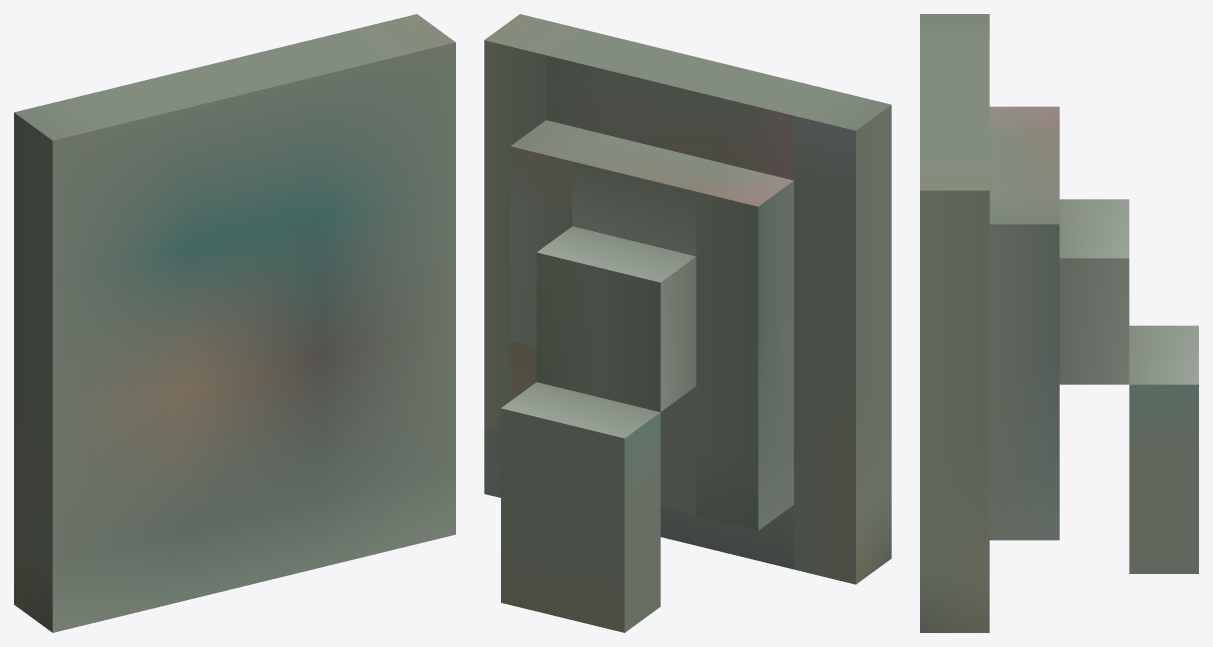
The model's file is PaintingFramedSmall_A_00.obj.
3 views of the same model, side by side, from view 1: azimuth 30°, elevation 25°; view 2: azimuth 150°, elevation 25°; view 3: azimuth 270°, elevation 25° (orthographic). The views are drawn at different scales.
Visible parts, largest first — view 1: PaintingFramedSmall_A_00; view 2: PaintingFramedSmall_A_00; view 3: PaintingFramedSmall_A_00.
Part boxes in pixels (x1,y1,x2,y2): PaintingFramedSmall_A_00: (14,14,455,632); PaintingFramedSmall_A_00: (484,14,891,632); PaintingFramedSmall_A_00: (920,14,1198,632).
Bounding box in the file's own units: 0.3 × 0.35 × 0.2.
